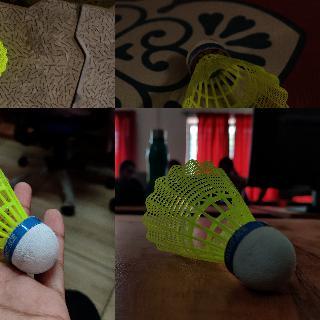shuttlecock: (142, 160, 294, 290), (0, 139, 59, 273), (178, 38, 291, 107)
